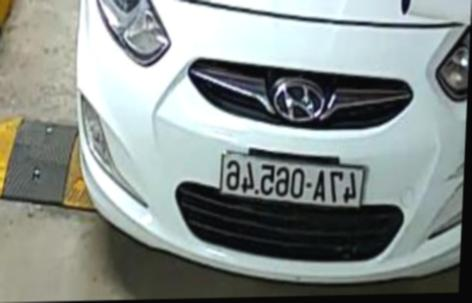License_Plate: (205, 145, 373, 207)
